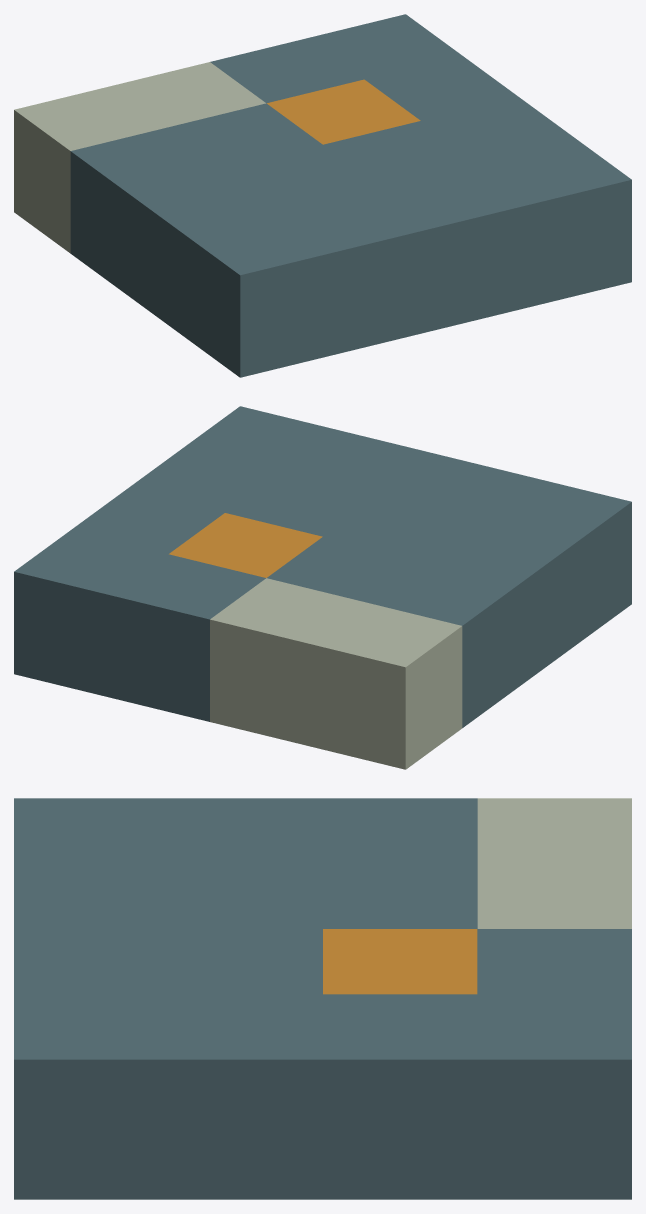
Rendered from e1c21924-dbeb-4ce1-9fc2-7ed5ffa0b6ea.glb.
3 views of the same model, one above another, from view 1: azimuth 30°, elevation 25°; view 2: azimuth 150°, elevation 25°; view 3: azimuth 270°, elevation 25° (orthographic). The views are drawn at different scales.
Visible parts, largest first — view 1: e1c21924-dbeb-4ce1-9fc2-7ed5ffa0b6ea:chunk:0,0,-1; view 2: e1c21924-dbeb-4ce1-9fc2-7ed5ffa0b6ea:chunk:0,0,-1; view 3: e1c21924-dbeb-4ce1-9fc2-7ed5ffa0b6ea:chunk:0,0,-1.
Boxes of the visible parts, x1,y1,x2,y2 form: e1c21924-dbeb-4ce1-9fc2-7ed5ffa0b6ea:chunk:0,0,-1: (14, 14, 631, 377); e1c21924-dbeb-4ce1-9fc2-7ed5ffa0b6ea:chunk:0,0,-1: (14, 406, 631, 769); e1c21924-dbeb-4ce1-9fc2-7ed5ffa0b6ea:chunk:0,0,-1: (14, 798, 631, 1199).
Size of the model in its own units: 1 by 0.25 by 1.
